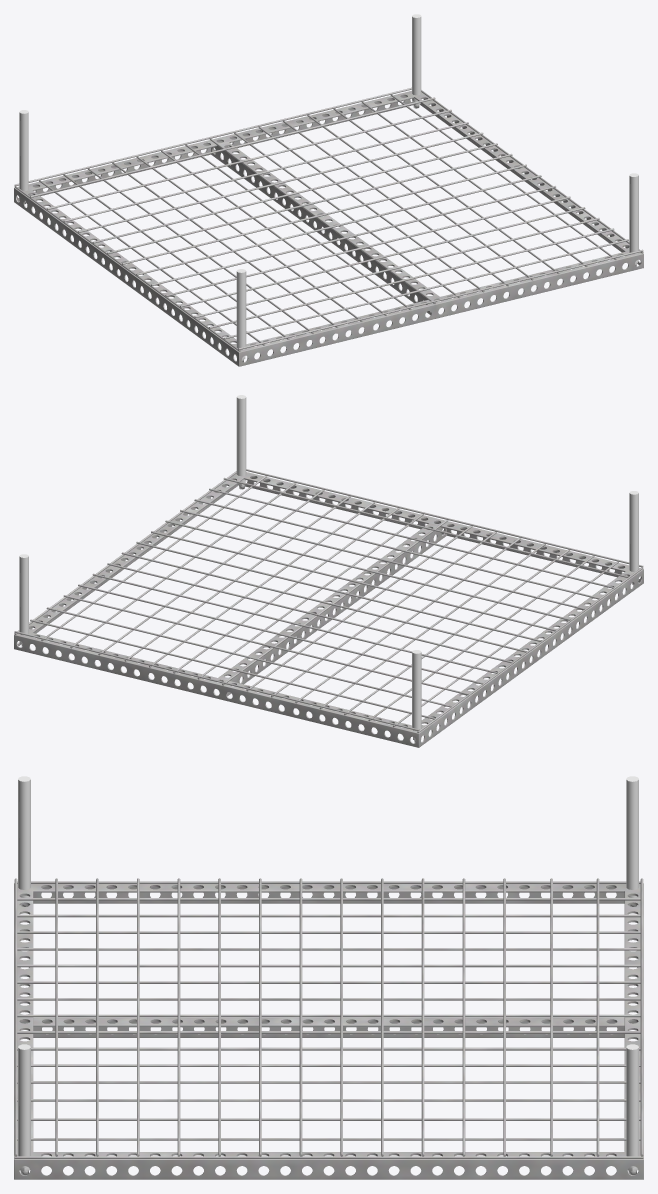
3 renders of one model, top to bottom at view 1: azimuth 30°, elevation 25°; view 2: azimuth 150°, elevation 25°; view 3: azimuth 270°, elevation 25°, orthographic. The views are drawn at different scales.
Parts seen in each view (by area): view 1: Grill, Rods; view 2: Grill, Rods; view 3: Grill, Rods.
Boxes of the visible parts, left/top/right/bottom form: Grill: left=14, top=87, right=643, bottom=366; Rods: left=19, top=14, right=638, bottom=362; Grill: left=14, top=469, right=643, bottom=747; Rods: left=19, top=395, right=638, bottom=743; Grill: left=14, top=878, right=643, bottom=1179; Rods: left=18, top=776, right=638, bottom=1175.
Size of the model in its own units: 32.14 by 6.97 by 30.94.
2 materials, 2 textured.
